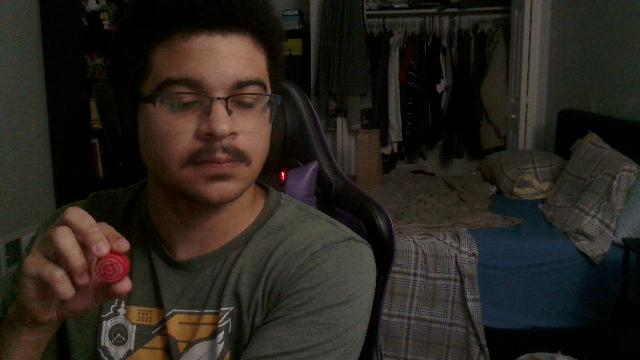cap: (96, 251, 130, 283)
